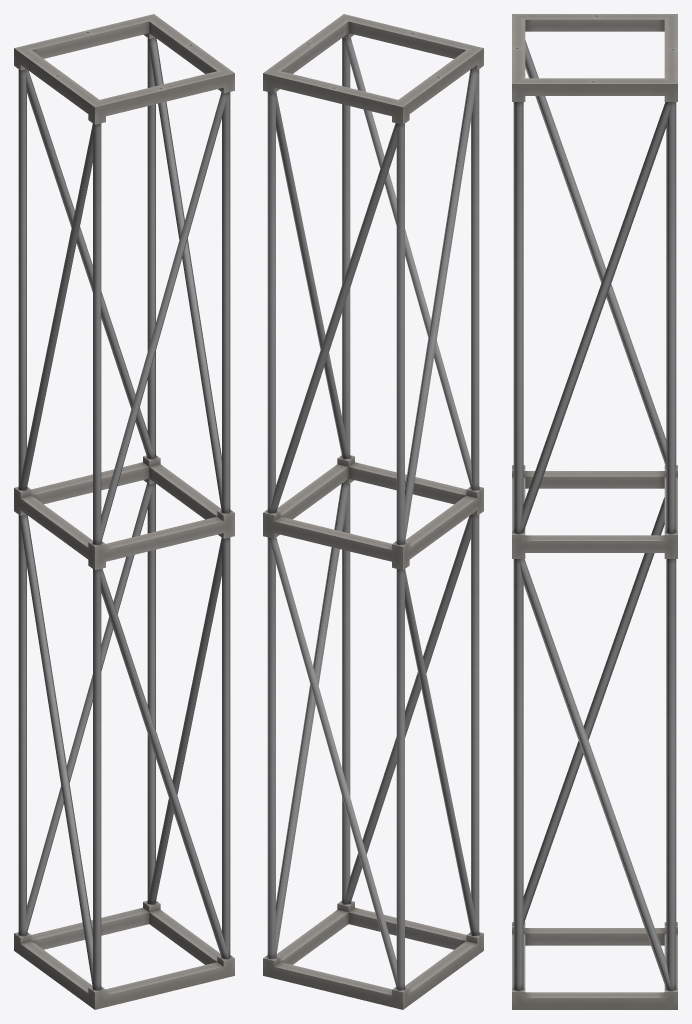
The model's file is Rana_Truss_2.obj.
The picture shows the model from 3 angles, left to right: view 1: azimuth 30°, elevation 25°; view 2: azimuth 150°, elevation 25°; view 3: azimuth 270°, elevation 25°; orthographic projection. The views are drawn at different scales.
Visible parts, largest first — view 1: Rana_Truss_2; view 2: Rana_Truss_2; view 3: Rana_Truss_2.
Part boxes in pixels (x1,y1,x2,y2): Rana_Truss_2: (14, 14, 234, 1009); Rana_Truss_2: (263, 14, 483, 1009); Rana_Truss_2: (512, 14, 677, 1009).
Bounding box in the file's own units: 0.3125 × 1.92 × 0.3125.
